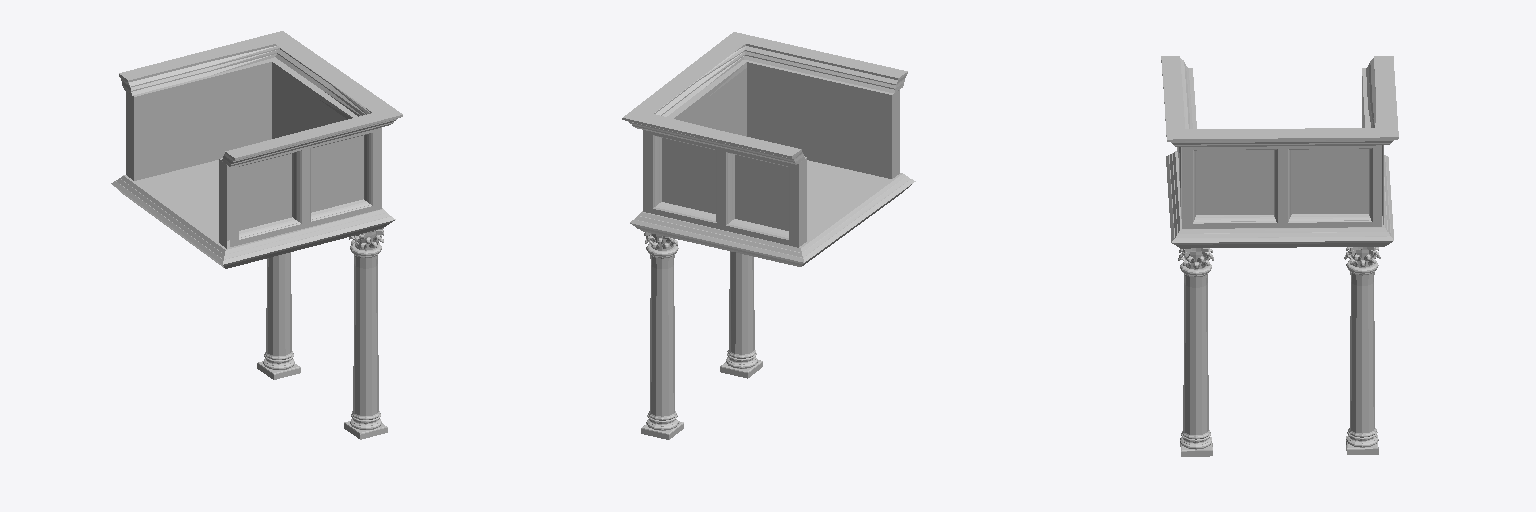
Rendered from pulpito.obj.
The picture shows the model from 3 angles: view 1: azimuth 30°, elevation 25°; view 2: azimuth 150°, elevation 25°; view 3: azimuth 270°, elevation 25°; orthographic projection.
Visible parts, largest first — view 1: IN_LatoPul; view 2: IN_LatoPul; view 3: IN_LatoPul.
Boxes of the visible parts, box(x1,y1,x2,y2) form: IN_LatoPul: box(111, 31, 402, 439); IN_LatoPul: box(622, 32, 915, 439); IN_LatoPul: box(1161, 56, 1398, 456).
Bounding box in the file's own units: 1.8 × 3.05 × 2.04.